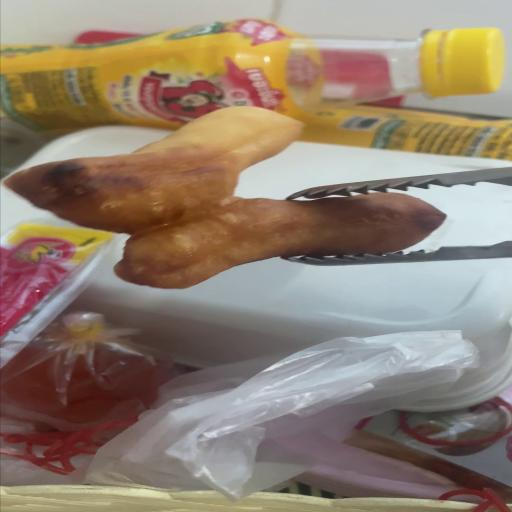street_burnt_good: (4, 107, 445, 289)
